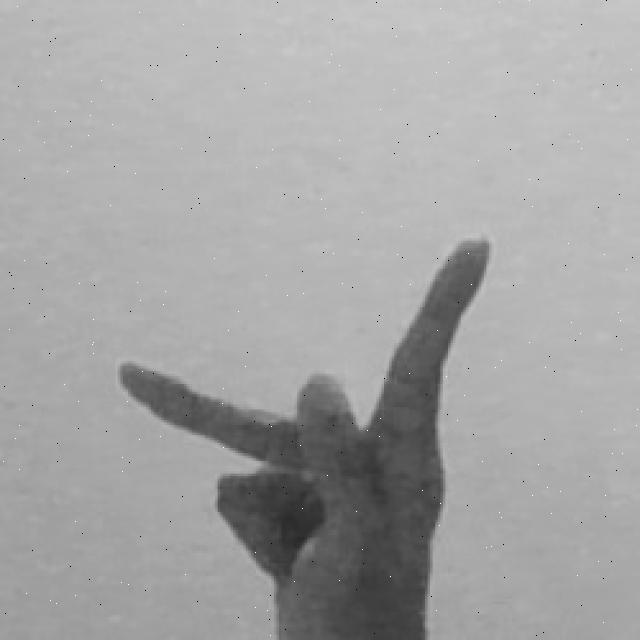K: (117, 233, 495, 640)
